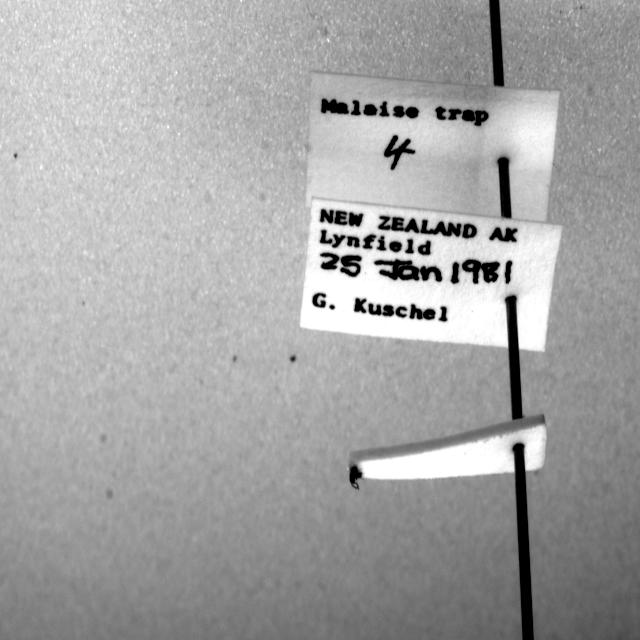mixed_label: (300, 199, 561, 351), (306, 71, 559, 221)
